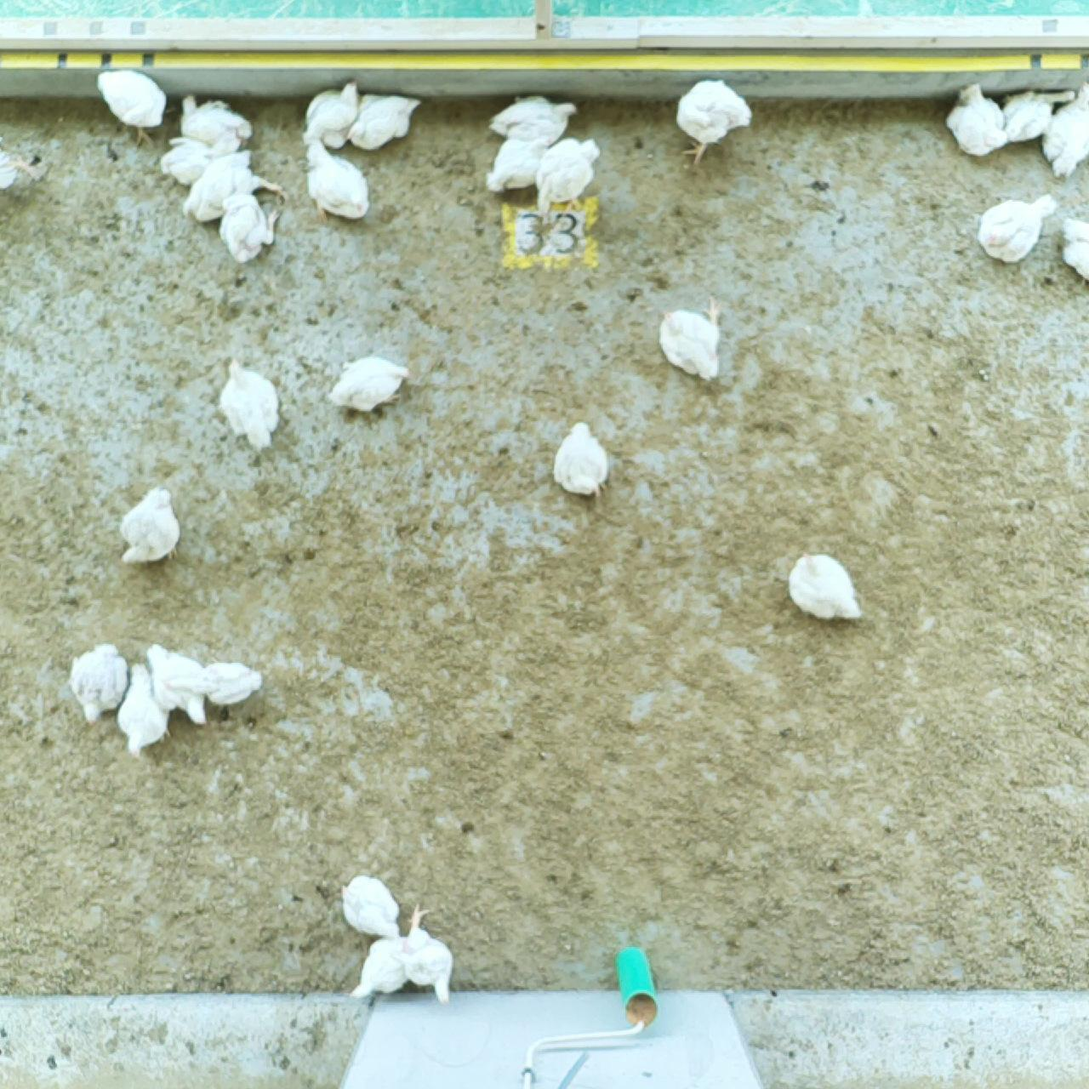chicken: (182, 150, 284, 225), (676, 78, 752, 162), (976, 194, 1054, 265), (219, 358, 280, 448), (306, 140, 369, 225), (659, 296, 721, 382), (96, 69, 166, 145), (537, 138, 601, 218), (145, 643, 206, 726), (117, 664, 169, 758), (403, 904, 452, 1003), (1041, 80, 1089, 177), (330, 356, 411, 413), (70, 644, 128, 723), (790, 554, 859, 620), (946, 83, 1006, 157), (121, 487, 180, 562), (218, 193, 280, 264), (167, 662, 264, 706), (553, 421, 608, 498), (348, 93, 421, 151), (180, 94, 252, 152), (490, 95, 575, 144), (303, 78, 358, 150), (159, 138, 242, 185), (343, 875, 401, 940), (487, 138, 551, 195), (1002, 90, 1074, 140), (351, 936, 408, 997), (1, 135, 43, 193), (1062, 215, 1089, 280)
